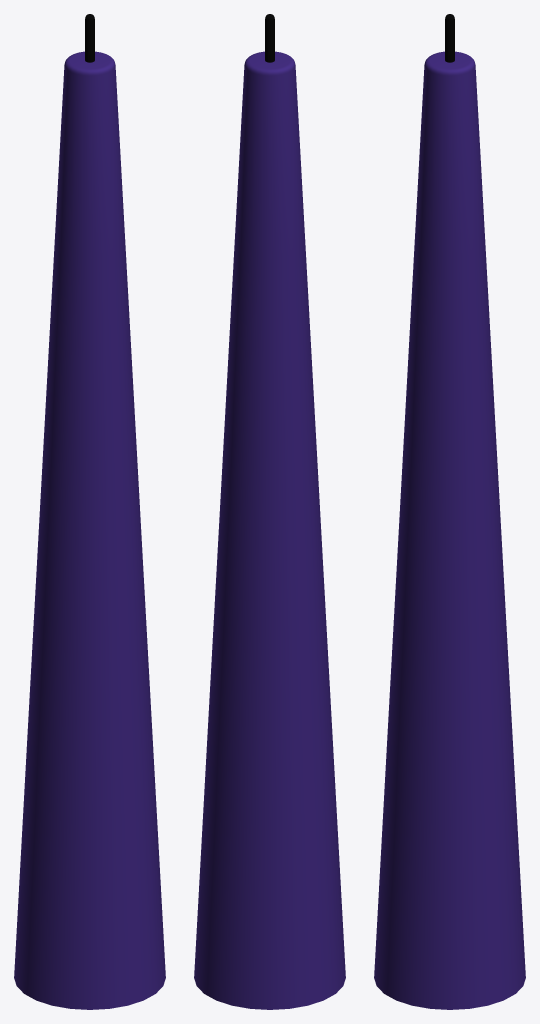
Rendered from CANDLE - PURPLE.fbx.
The picture shows the model from 3 angles, left to right: view 1: azimuth 30°, elevation 25°; view 2: azimuth 150°, elevation 25°; view 3: azimuth 270°, elevation 25°; orthographic projection.
Visible parts, largest first — view 1: Cone001, Object; view 2: Cone001, Object; view 3: Cone001, Object.
Part boxes in pixels (<box>): Cone001: <box>14,51,165,1009</box>; Object: <box>85,14,94,62</box>; Cone001: <box>194,51,345,1009</box>; Object: <box>265,14,274,62</box>; Cone001: <box>374,51,525,1009</box>; Object: <box>445,14,454,62</box>.
Size of the model in its own units: 3 by 21 by 3.
